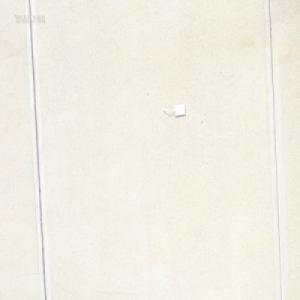LuggageTag: (162, 102, 186, 119)
